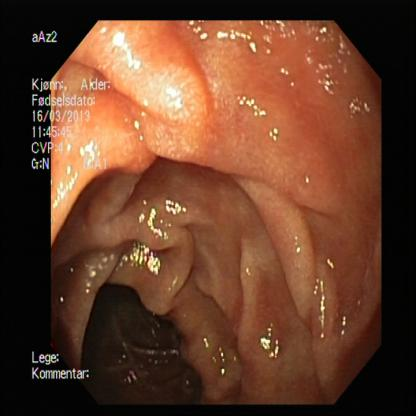Labels: (30, 27, 107, 180), (22, 338, 93, 390)
Polyps: (105, 18, 208, 132)
